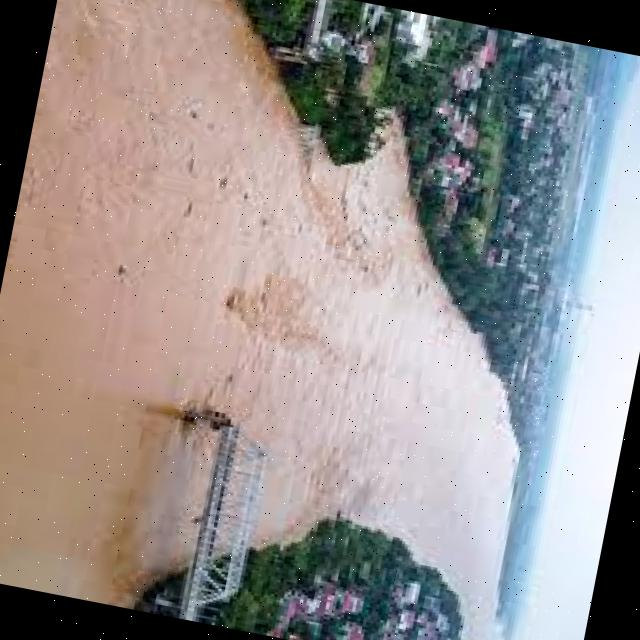bridge collapse: (91, 0, 484, 598)
